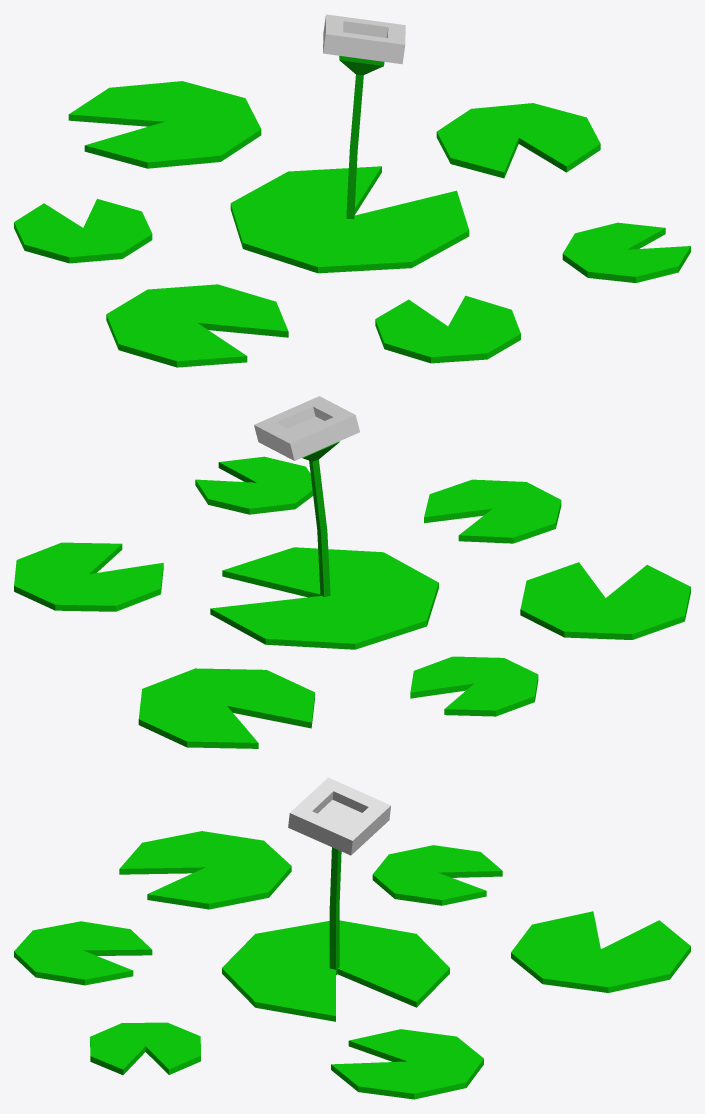
The model's file is Lilypad3.fbx.
3 renders of one model, top to bottom at view 1: azimuth 30°, elevation 25°; view 2: azimuth 150°, elevation 25°; view 3: azimuth 270°, elevation 25°, orthographic. The views are drawn at different scales.
Visible parts, largest first — view 1: LilyPad3; view 2: LilyPad3; view 3: LilyPad3.
Boxes of the visible parts, x1,y1,x2,y2 form: LilyPad3: [14, 14, 690, 367]; LilyPad3: [14, 396, 690, 748]; LilyPad3: [14, 777, 690, 1099].
Size of the model in its own units: 139 by 45.14 by 151.
